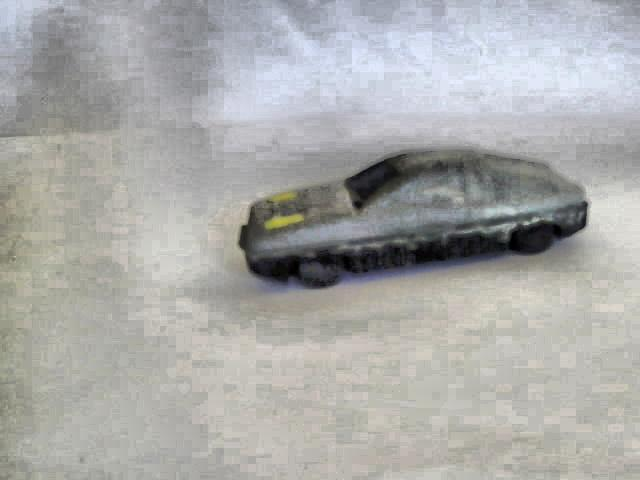normal_car: (234, 146, 591, 291)
